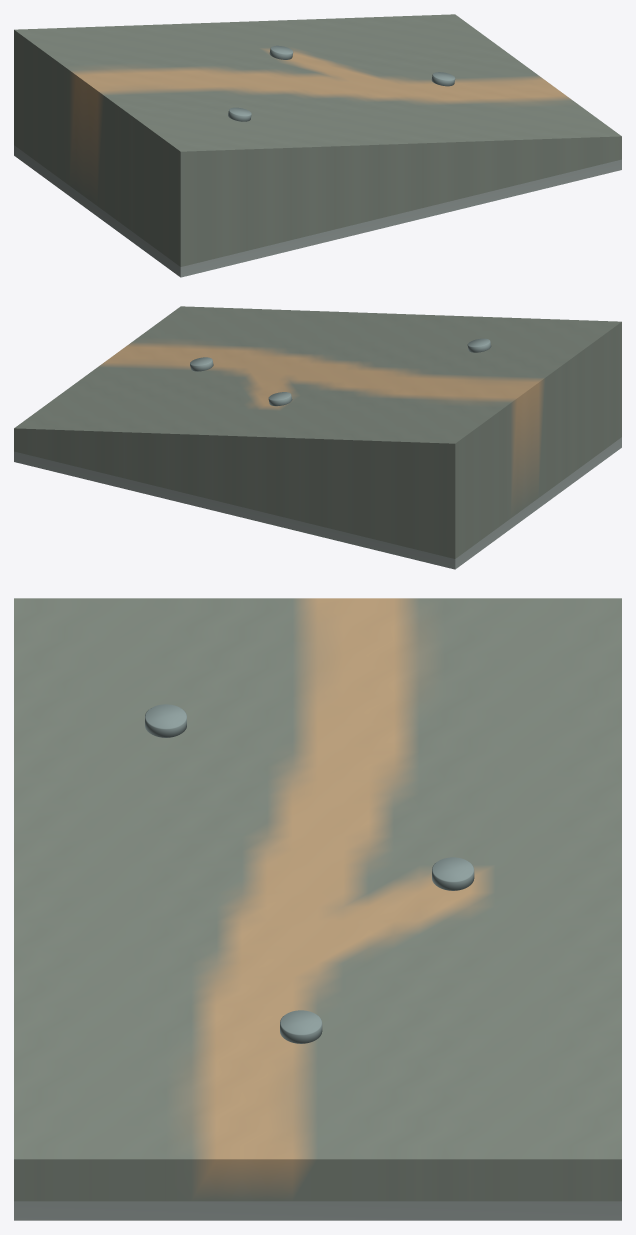
File: samaria-road.glb
3 views of the same model, one above another, from view 1: azimuth 30°, elevation 25°; view 2: azimuth 150°, elevation 25°; view 3: azimuth 270°, elevation 25° (orthographic). The views are drawn at different scales.
Visible parts, largest first — view 1: samaria-road-samaria-original-selected-slope-earth, samaria-road-samaria-modern-neutral-display; view 2: samaria-road-samaria-original-selected-slope-earth, samaria-road-samaria-modern-neutral-display; view 3: samaria-road-samaria-original-selected-slope-earth, samaria-road-samaria-modern-neutral-display, samaria-road-samaria-modern-neutral-reading-marker.001, samaria-road-samaria-modern-neutral-reading-marker.002, samaria-road-samaria-modern-neutral-reading-marker.
Boxes of the visible parts, x1,y1,x2,y2 form: samaria-road-samaria-original-selected-slope-earth: [14, 14, 621, 266]; samaria-road-samaria-modern-neutral-display: [14, 145, 621, 277]; samaria-road-samaria-original-selected-slope-earth: [14, 306, 621, 558]; samaria-road-samaria-modern-neutral-display: [14, 437, 621, 569]; samaria-road-samaria-original-selected-slope-earth: [14, 598, 621, 1201]; samaria-road-samaria-modern-neutral-display: [14, 1201, 621, 1220]; samaria-road-samaria-modern-neutral-reading-marker.001: [432, 857, 474, 890]; samaria-road-samaria-modern-neutral-reading-marker.002: [280, 1010, 322, 1043]; samaria-road-samaria-modern-neutral-reading-marker: [145, 704, 186, 737].
Size of the model in its own units: 1.1 by 0.3 by 0.72.
